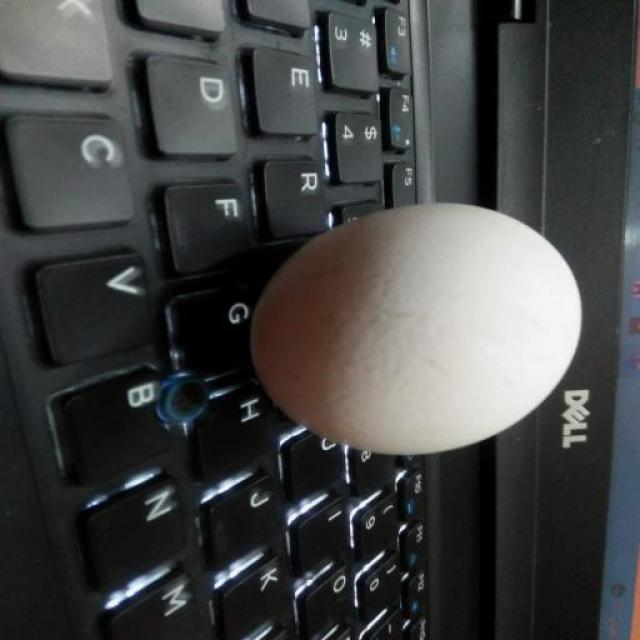telur: (251, 202, 580, 459)
